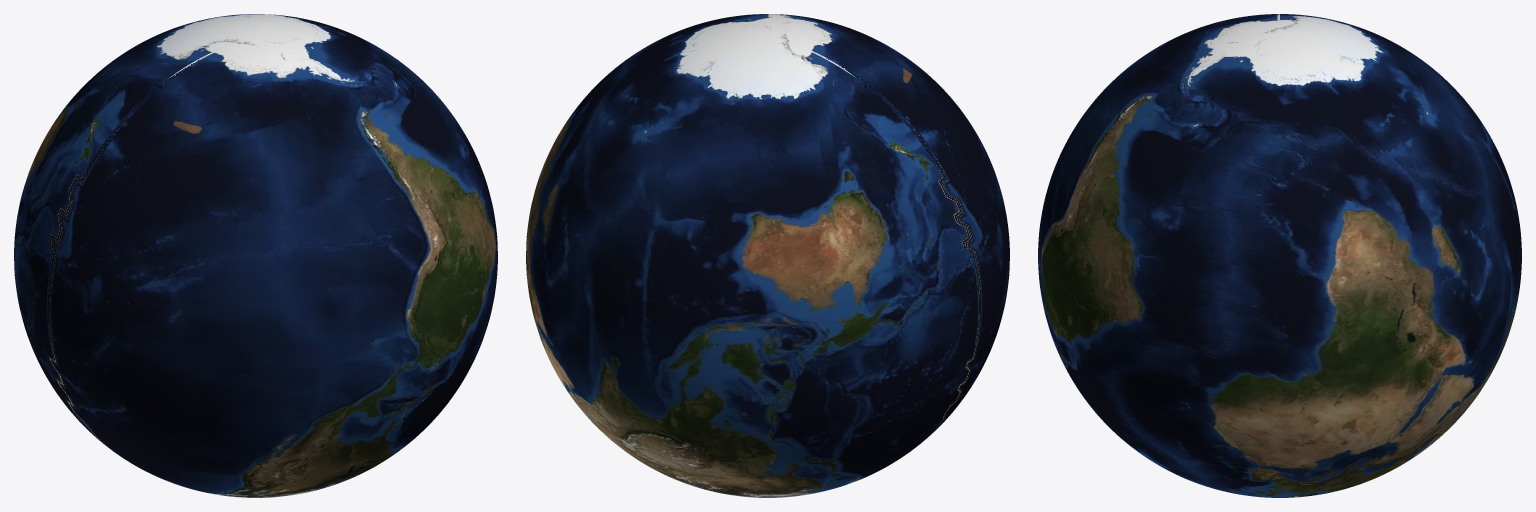
Rendered from continental-drift.glb.
3 renders of one model, left to right at view 1: azimuth 30°, elevation 25°; view 2: azimuth 150°, elevation 25°; view 3: azimuth 270°, elevation 25°, orthographic.
Visible parts, largest first — view 1: Drift_Earth; view 2: Drift_Earth; view 3: Drift_Earth.
Part boxes in pixels (x1,y1,x2,y2): Drift_Earth: (14,14,497,497); Drift_Earth: (526,14,1009,497); Drift_Earth: (1038,14,1521,497).
Bounding box in the file's own units: 2.1 × 2.1 × 2.1.
2 materials, 2 textured.
